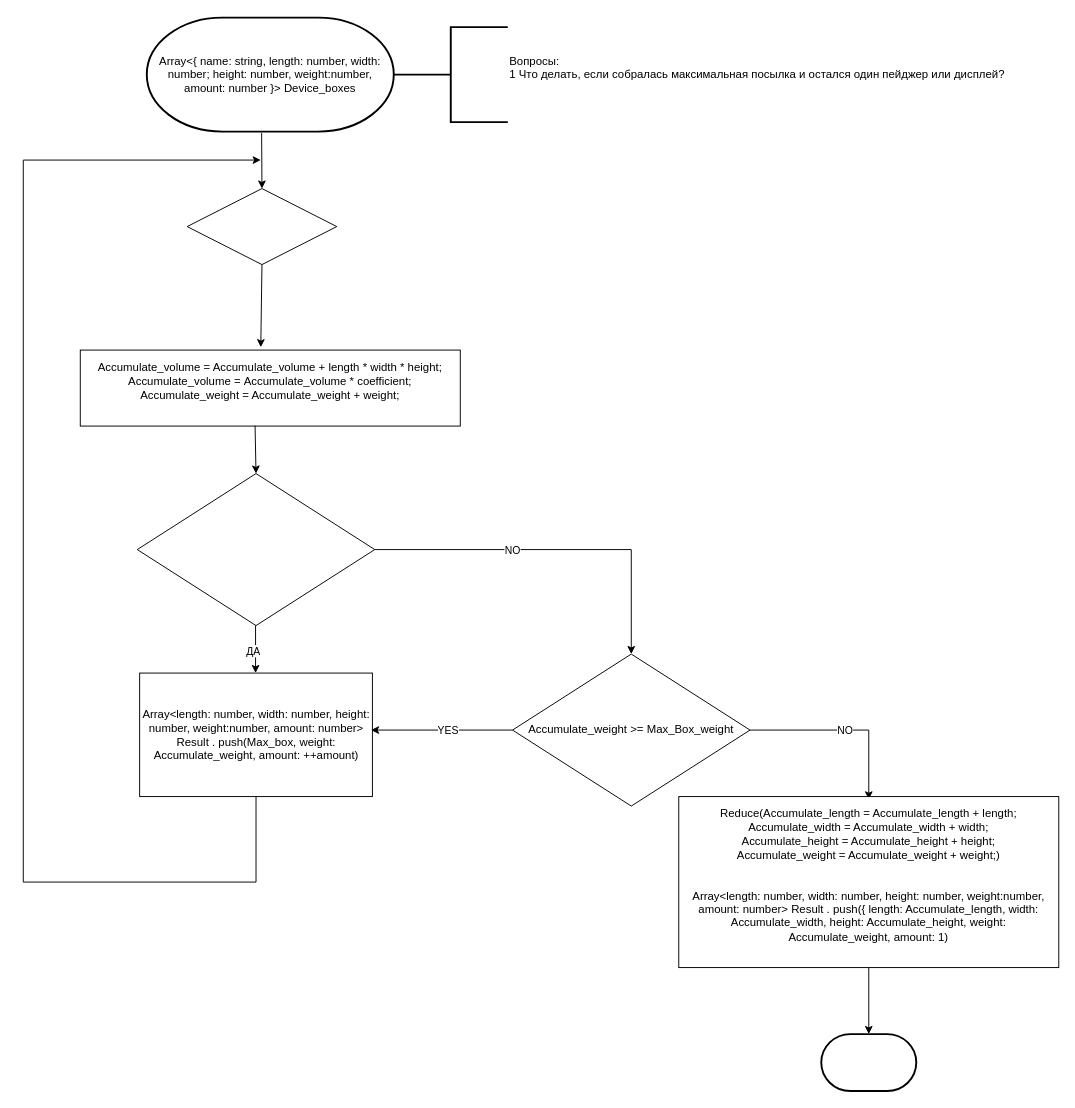
Some shapes in this 1075 by 1108 pixel diagram are drawn without their labels. Here are the shapes that lost their labels. From the top down, the centre of each, then its label:
At point 261,226: "Device_boxes.length > 0".
At point 255,549: "Accumulate_volume >= Max_box_volume".
At point 868,1062: "END".
